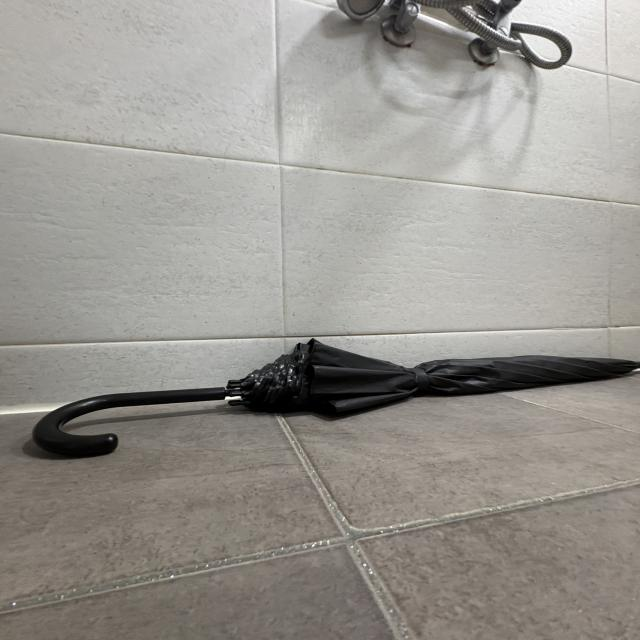umbrella: (31, 338, 640, 462)
